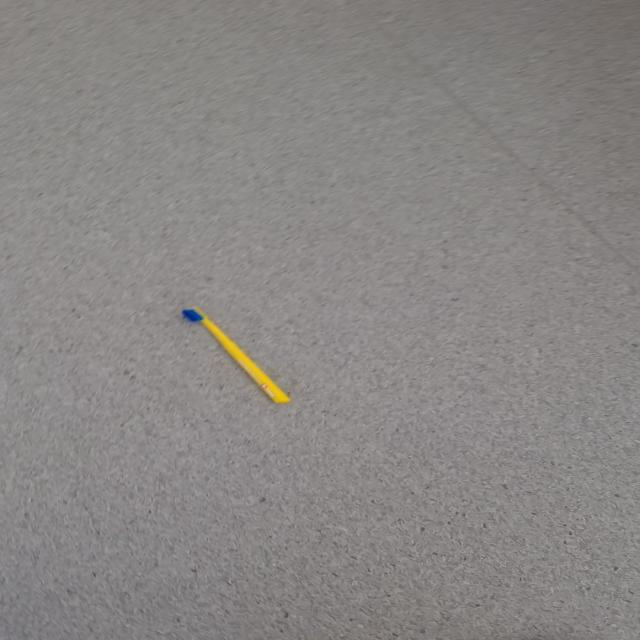toothbrush: (180, 306, 291, 405)
